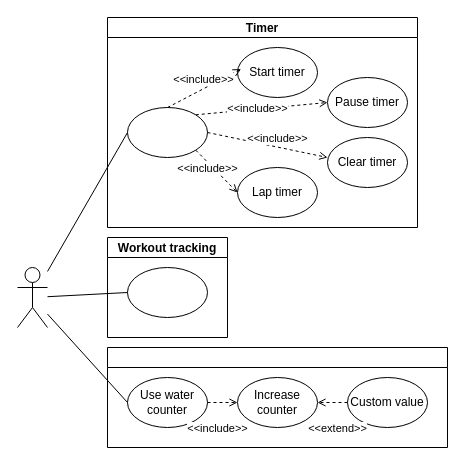
Some shapes in this 465 by 465 pixel diagram are drawn without their labels. Here are the shapes that lost their labels. From the top down, the centre of each, then its label:
point (167, 132): Use timer
point (32, 297): User
point (167, 292): Use calorie calculator
point (277, 397): Track Water
